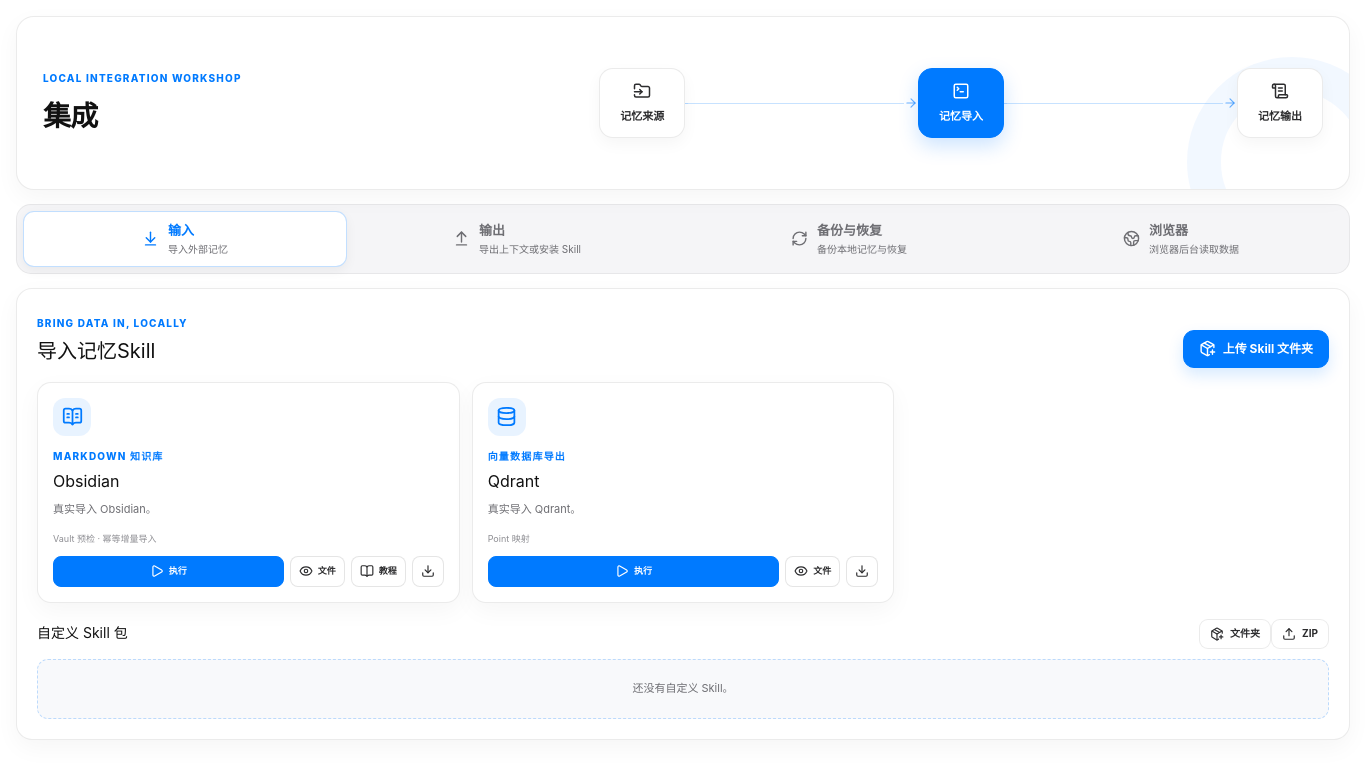
Test: IntegrationPanel › 备份与恢复 Tab 承载原记忆备份组件
expect the heading "Obsidian" is shown: met, box [53,470,120,490]
Click the tab "备份与恢复 备份本地记忆与恢复": (849, 239) [687,211,1011,266]
(page scrolled)
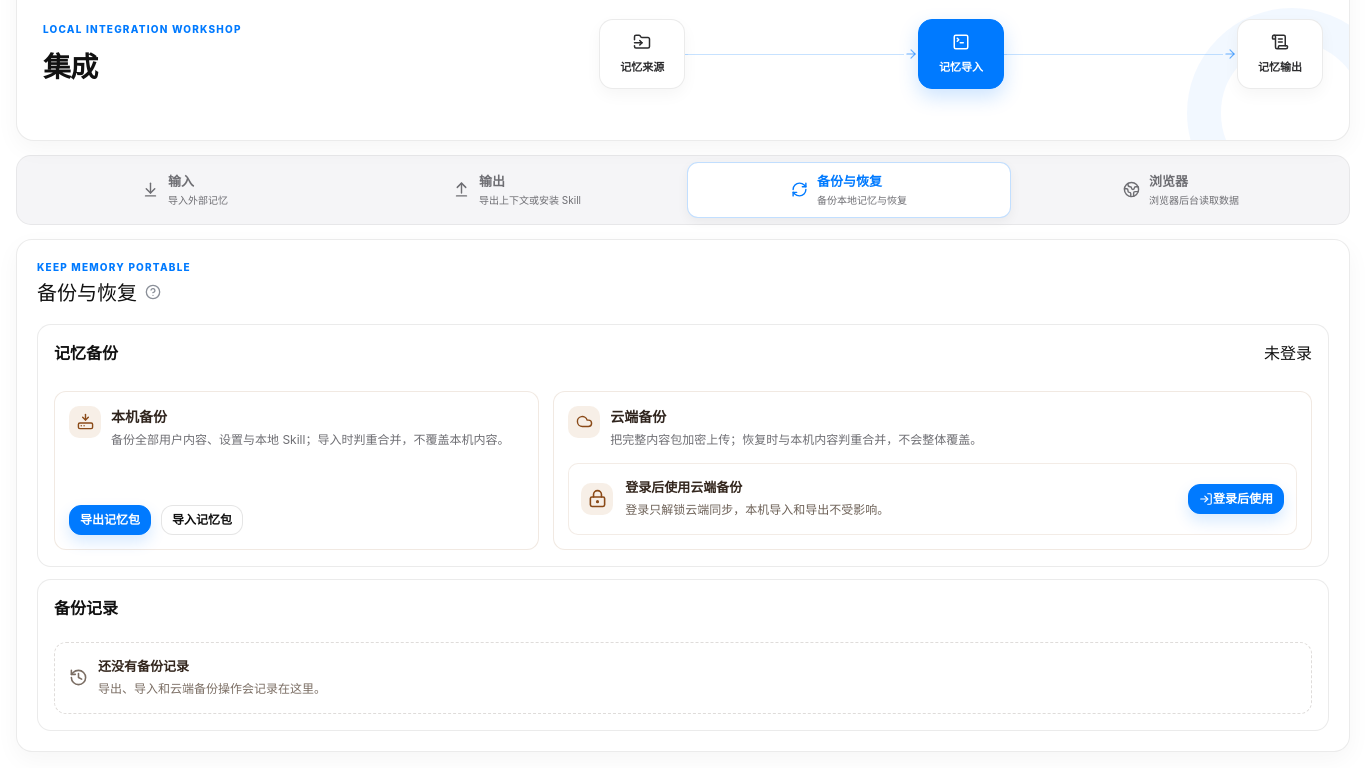
expect the heading "备份与恢复" is shown: met, box [37,280,137,306]
expect the element labelled "记忆备份" is shown: met, box [37,324,1329,730]
